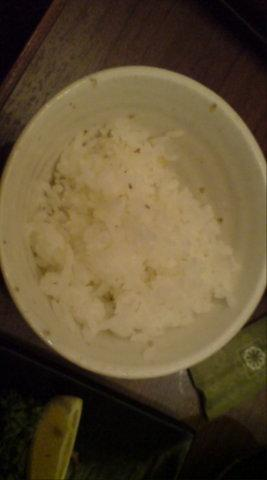rice: (26, 120, 233, 351)
